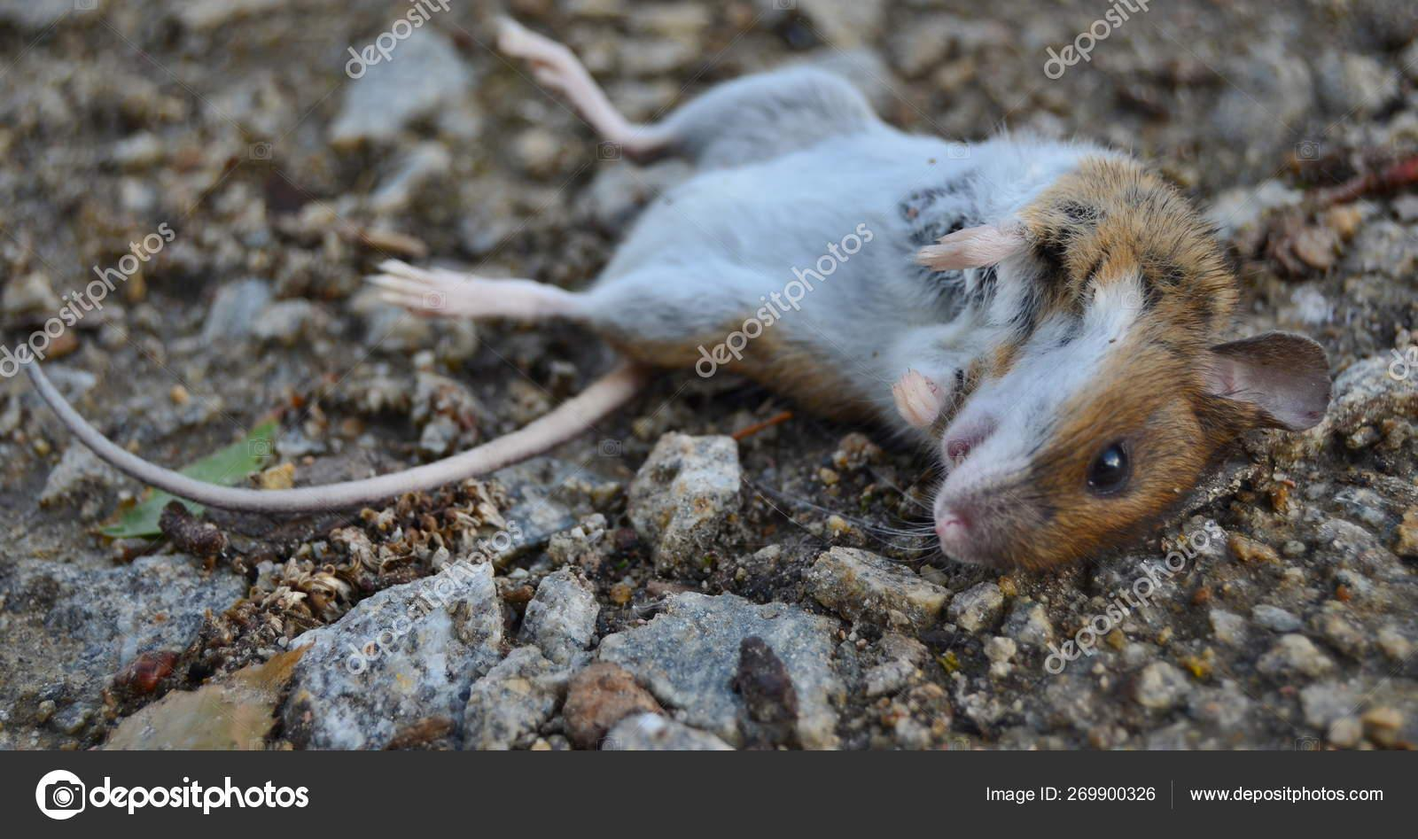rat: (27, 19, 1326, 572)
